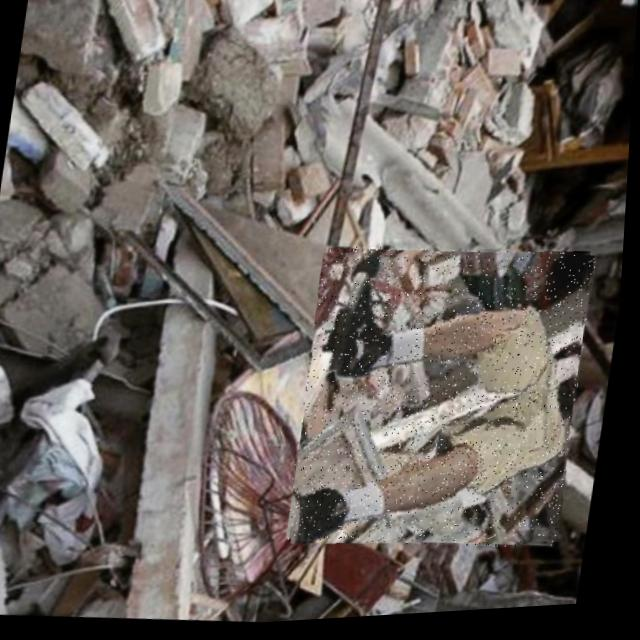Person in Rubble: (288, 237, 601, 568)
